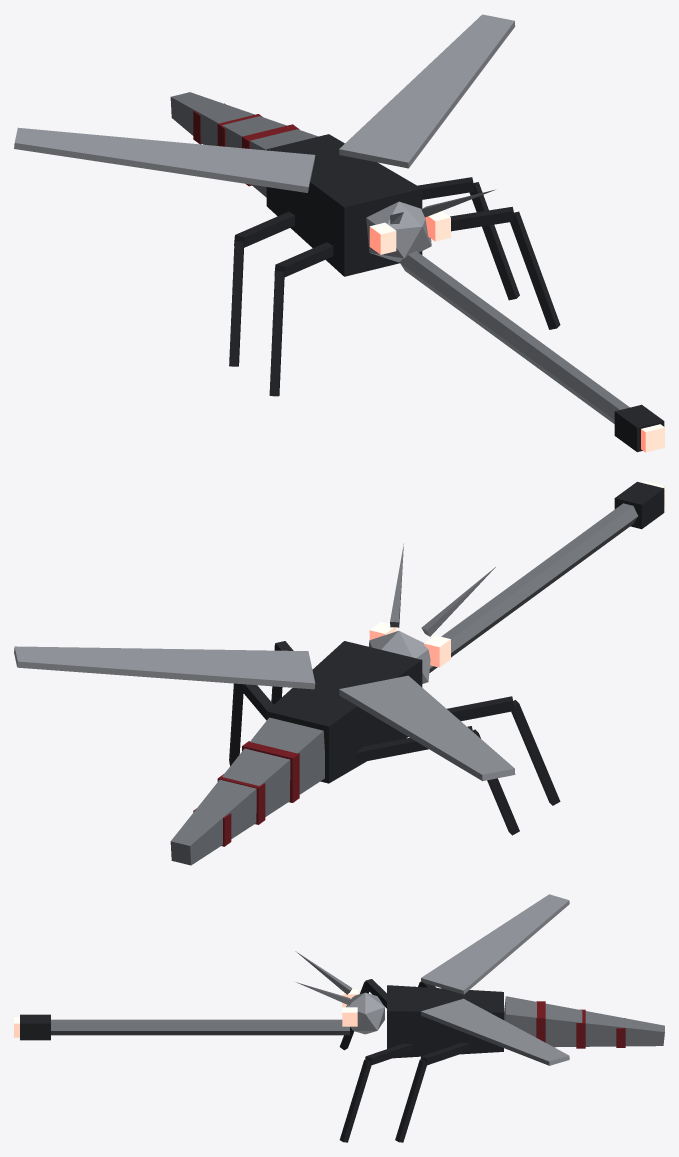
File: sniper.glb
The picture shows the model from 3 angles, top to bottom: view 1: azimuth 30°, elevation 25°; view 2: azimuth 150°, elevation 25°; view 3: azimuth 270°, elevation 25°; orthographic projection. The views are drawn at different scales.
Parts seen in each view (by area): view 1: DSniperHull, DSniperGlow; view 2: DSniperHull, DSniperGlow; view 3: DSniperHull, DSniperGlow.
Boxes of the visible parts, <box> form: DSniperHull: <box>14,14,664,452</box>; DSniperGlow: <box>369,211,664,452</box>; DSniperHull: <box>14,481,664,865</box>; DSniperGlow: <box>369,481,664,667</box>; DSniperHull: <box>20,894,664,1142</box>; DSniperGlow: <box>14,989,357,1037</box>.
Size of the model in its own units: 1.29 by 0.4636 by 2.11.
